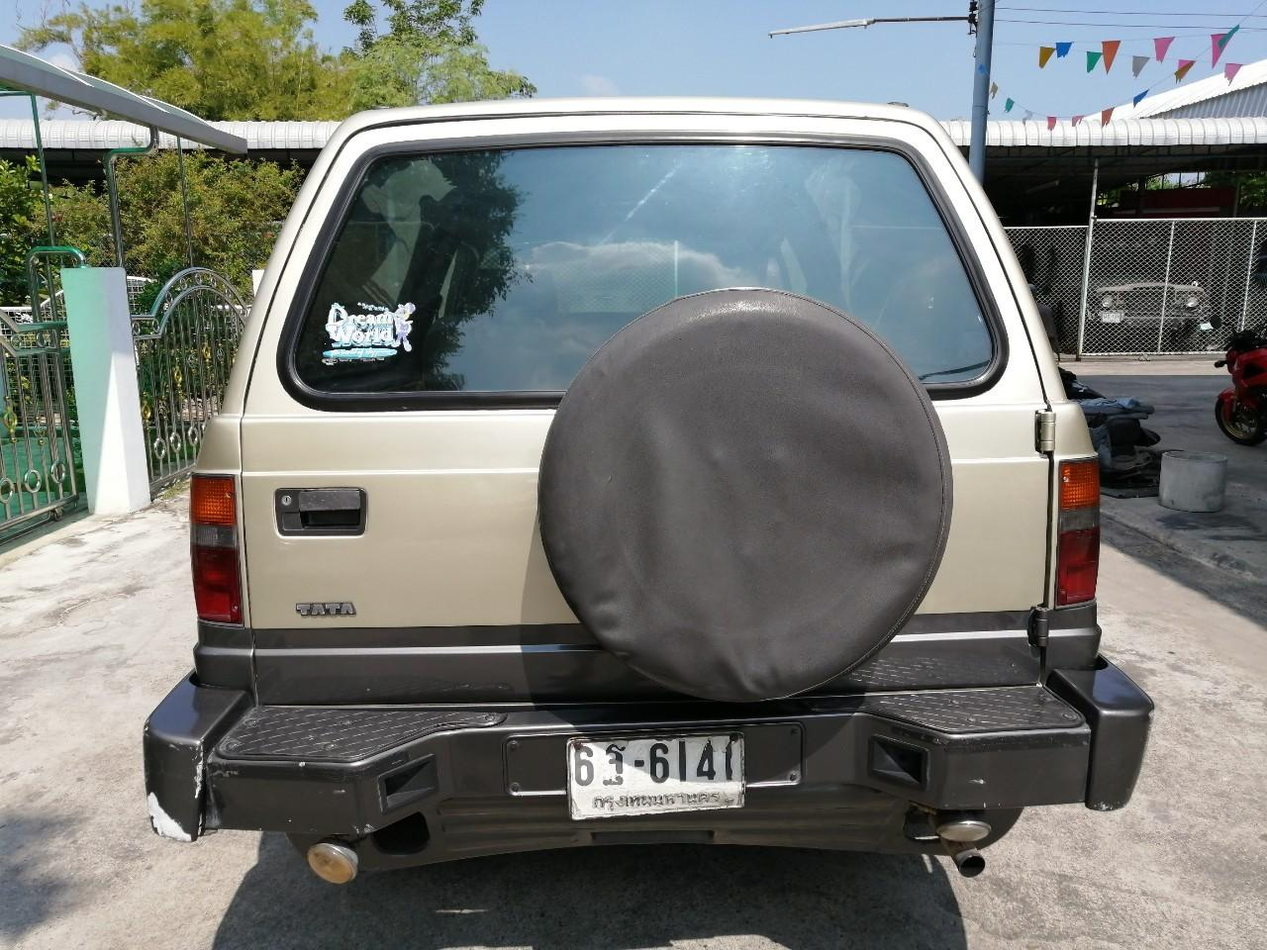license-plate: (565, 722, 753, 826)
